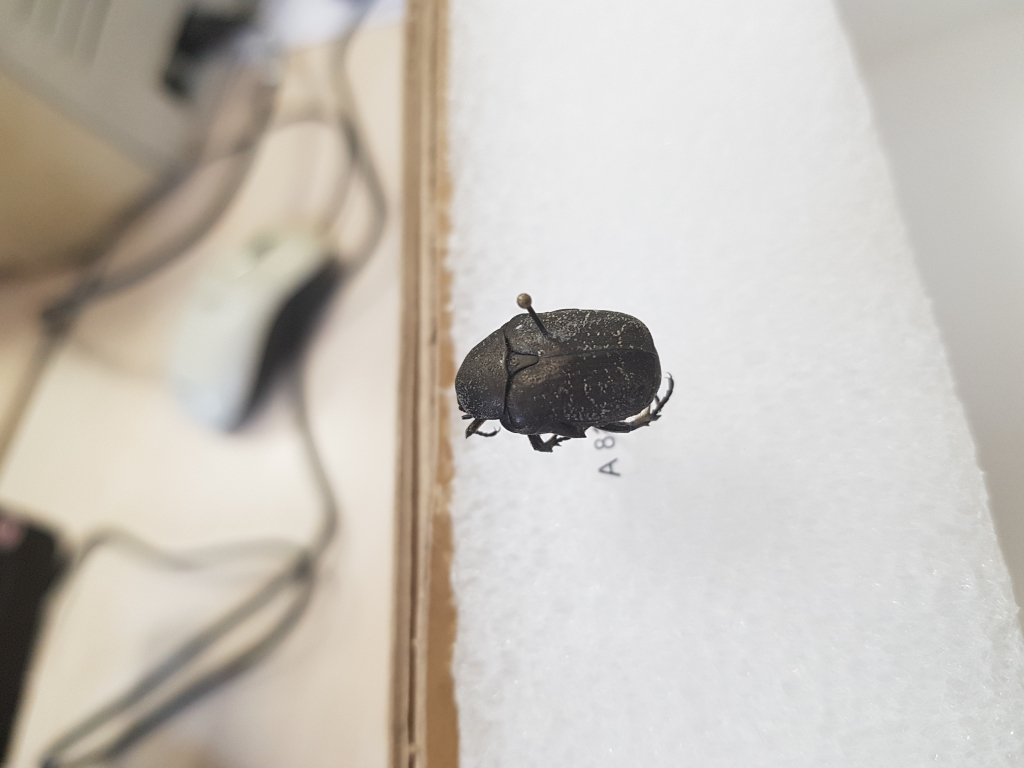Protaetia_asiatica: (449, 301, 683, 459)
